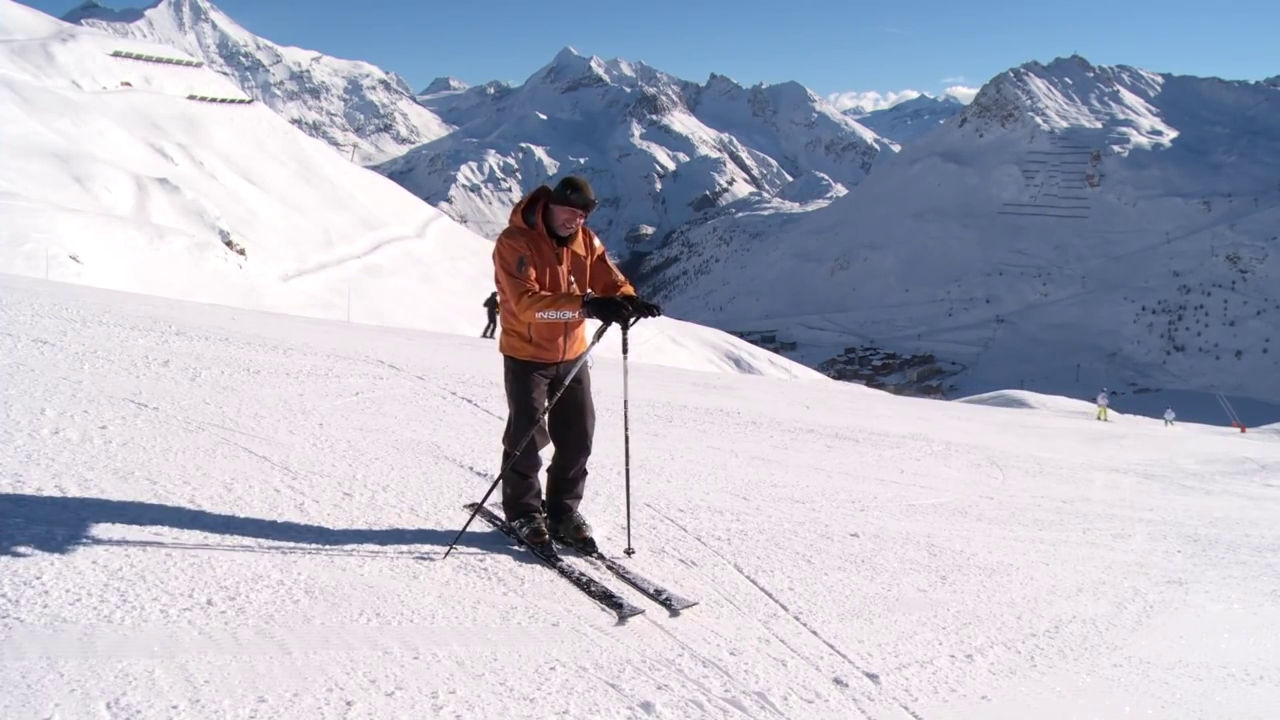person: (492, 177, 664, 553)
